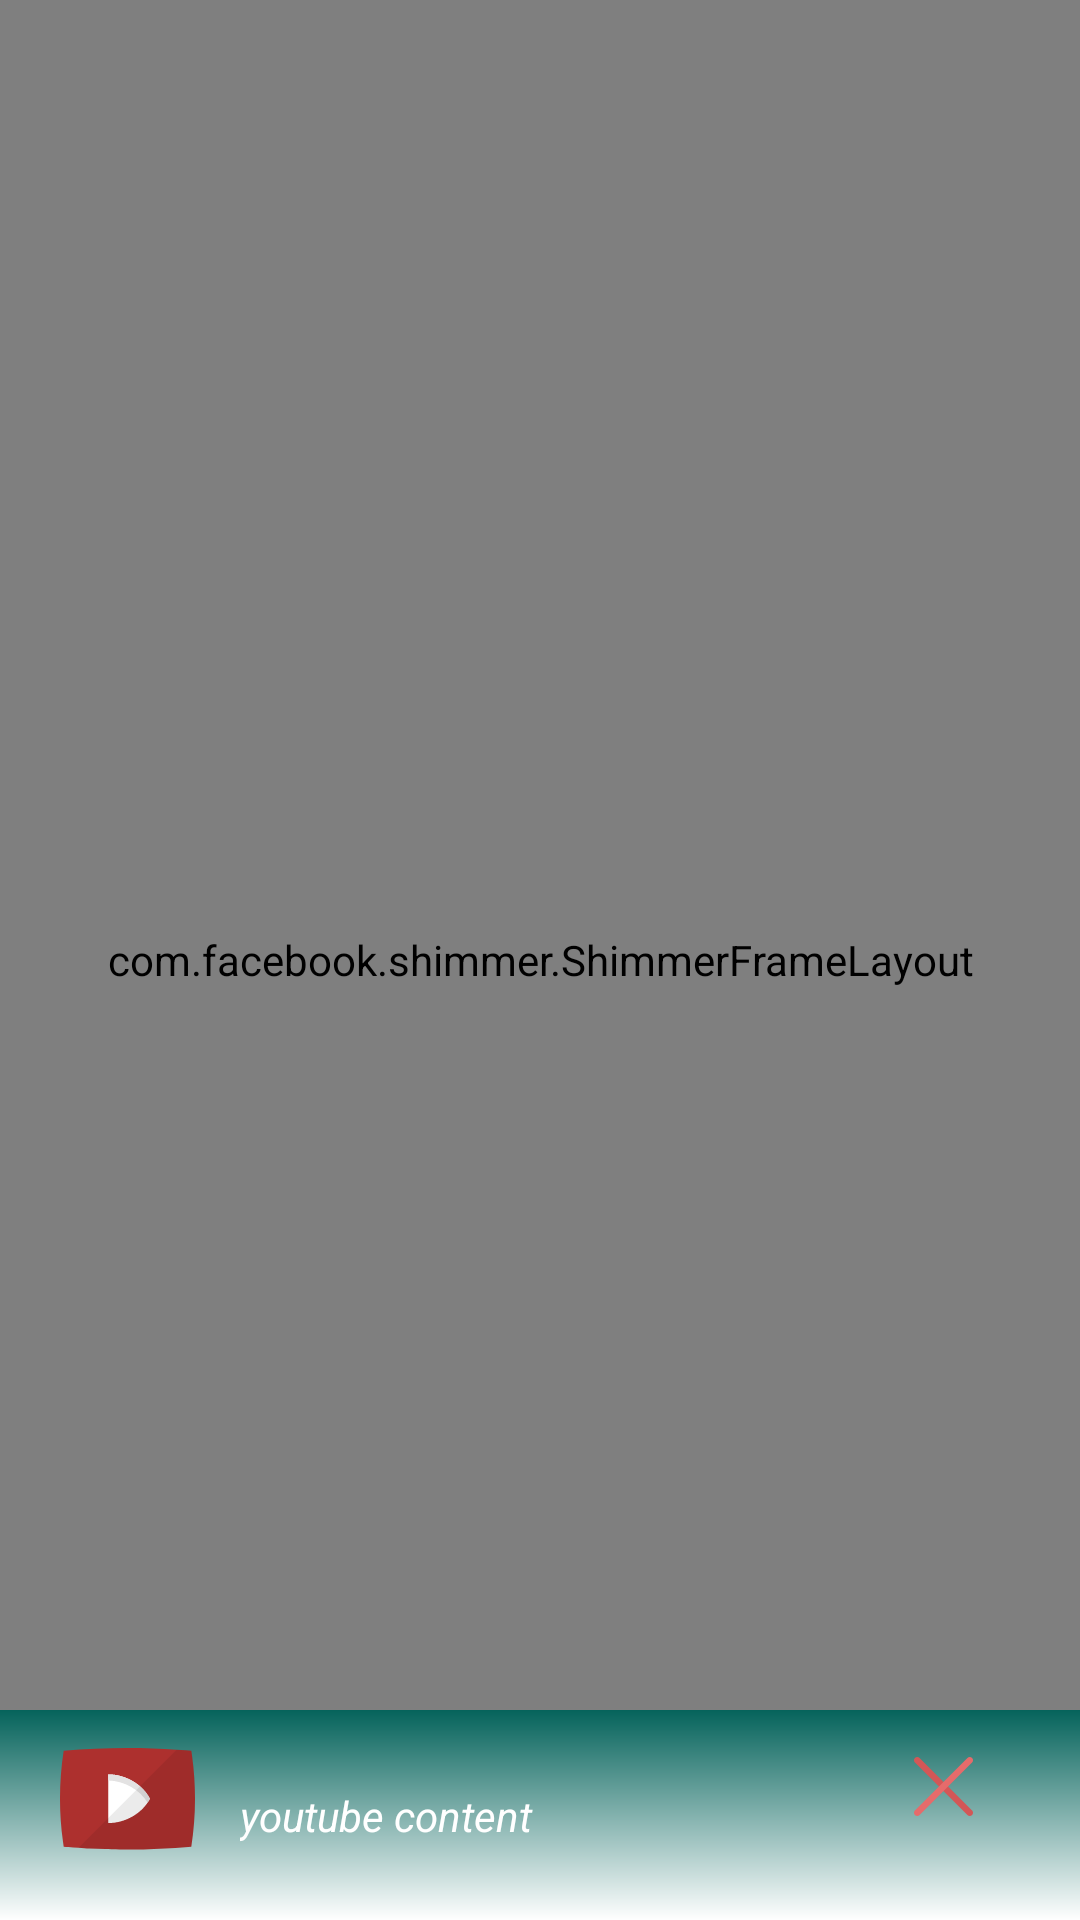

Icons on this 1080*1920 Android screen, each with the point to tap as (x=x, y=y):
cross: (x=943, y=1786)
